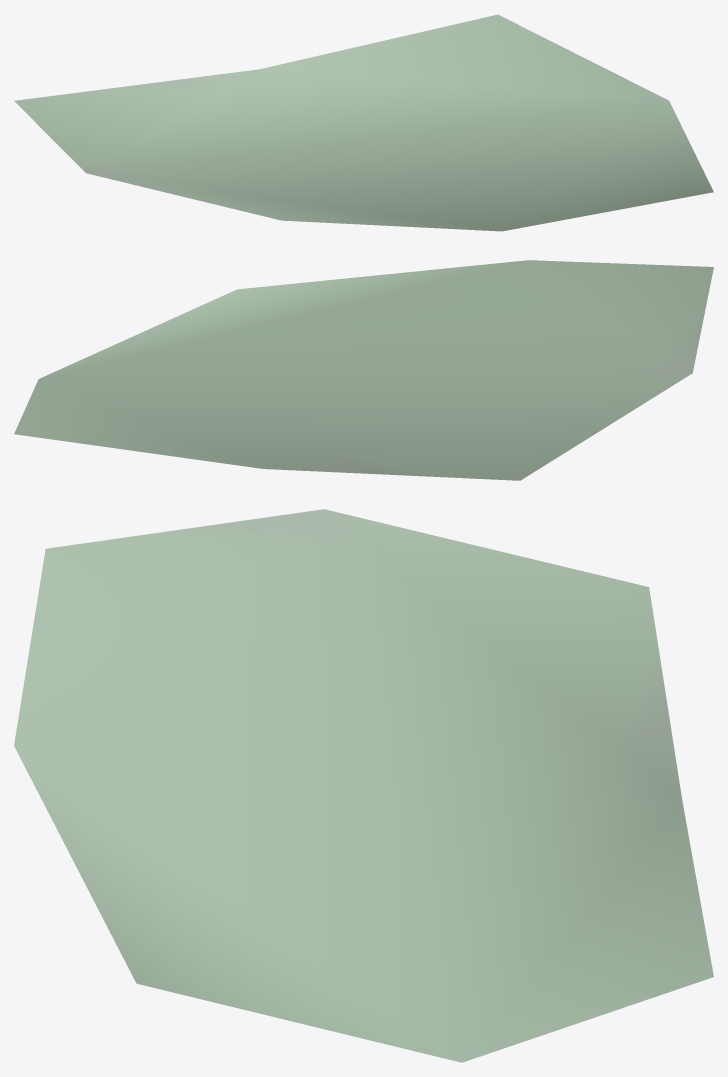
Rendered from TROLLHOLE02_HOLECAP189.fbx.
The picture shows the model from 3 angles, top to bottom: view 1: azimuth 30°, elevation 25°; view 2: azimuth 150°, elevation 25°; view 3: azimuth 270°, elevation 25°; orthographic projection. The views are drawn at different scales.
Visible parts, largest first — view 1: TROLLHOLE02_HOLECAP189; view 2: TROLLHOLE02_HOLECAP189; view 3: TROLLHOLE02_HOLECAP189.
Boxes of the visible parts, box(x1,y1,x2,y2) form: TROLLHOLE02_HOLECAP189: box(14, 14, 713, 231); TROLLHOLE02_HOLECAP189: box(14, 260, 713, 480); TROLLHOLE02_HOLECAP189: box(14, 509, 713, 1062).
Bounding box in the file's own units: 14433 × 2890 × 10744.
1 material, 1 textured.
